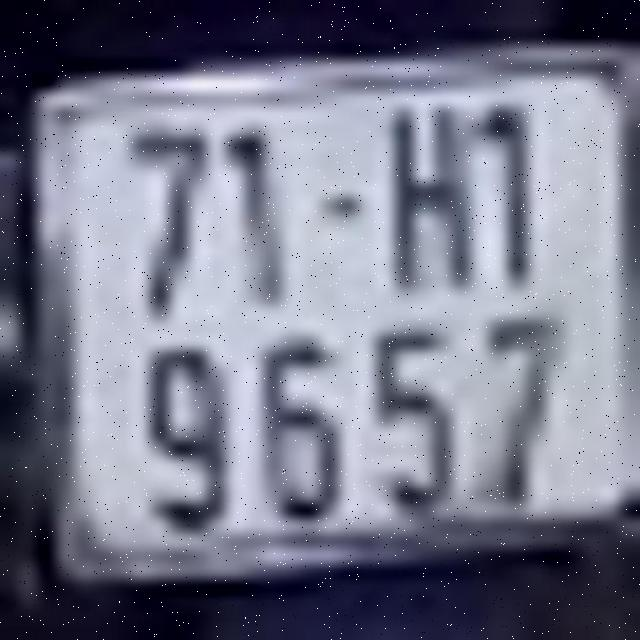1: (222, 122, 290, 309), (482, 96, 539, 287)
5: (371, 323, 459, 515)
6: (261, 328, 344, 522)
7: (121, 123, 210, 320), (483, 309, 564, 506)
9: (144, 340, 231, 534)
H: (387, 98, 477, 293)
